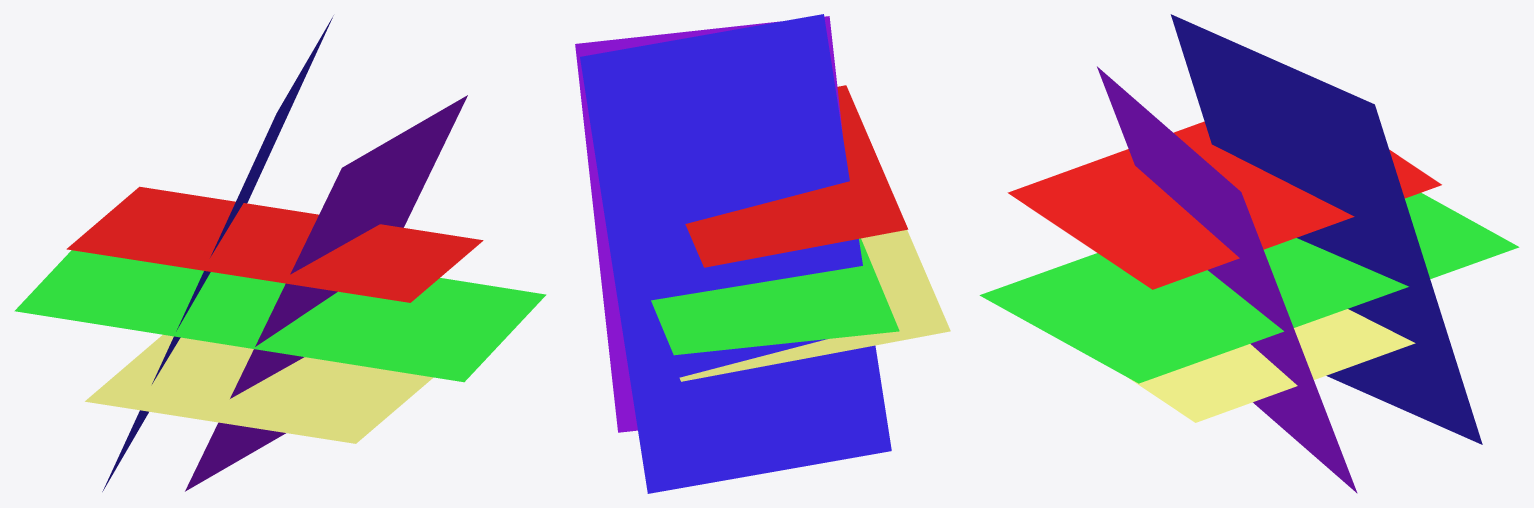
Rendered from LageB_parallel_eben_eben.glb.
3 views of the same model, side by side, from view 1: azimuth 30°, elevation 25°; view 2: azimuth 150°, elevation 25°; view 3: azimuth 270°, elevation 25° (orthographic). The views are drawn at different scales.
Visible parts, largest first — view 1: p.0018, p.0017, p.0014, p.0020, p.0019; view 2: p.0019, p.0018, p.0017, p.0014, p.0020; view 3: p.0019, p.0018, p.0017, p.0020, p.0014.
Boxes of the visible parts, x1,y1,x2,y2 form: p.0018: [14, 250, 546, 382]; p.0017: [66, 186, 483, 302]; p.0014: [85, 334, 433, 443]; p.0020: [185, 95, 467, 491]; p.0019: [102, 15, 333, 491]; p.0019: [580, 14, 891, 493]; p.0018: [651, 238, 899, 355]; p.0017: [685, 85, 908, 267]; p.0014: [679, 230, 950, 381]; p.0020: [575, 16, 842, 432]; p.0019: [1170, 14, 1482, 444]; p.0018: [979, 192, 1519, 383]; p.0017: [1007, 121, 1441, 289]; p.0020: [1097, 66, 1357, 493]; p.0014: [1128, 309, 1415, 422].
Size of the model in its own units: 0.3406 by 0.3075 by 0.3614.
